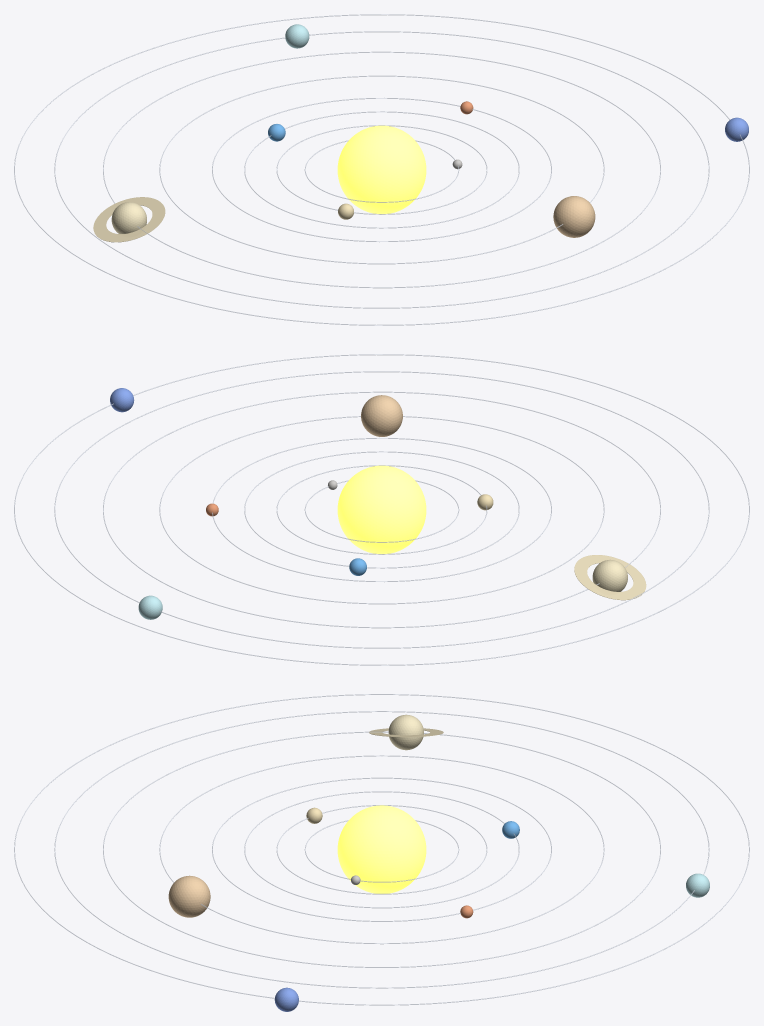
Rendered from solar-system.glb.
3 renders of one model, top to bottom at view 1: azimuth 30°, elevation 25°; view 2: azimuth 150°, elevation 25°; view 3: azimuth 270°, elevation 25°, orthographic.
Parts seen in each view (by area): view 1: Sun, NeptuneOrbit, UranusOrbit, SaturnOrbit, JupiterOrbit, Jupiter, SaturnRing, MarsOrbit, EarthOrbit, Saturn, VenusOrbit; view 2: Sun, NeptuneOrbit, UranusOrbit, SaturnOrbit, JupiterOrbit, Jupiter, SaturnRing, MarsOrbit, EarthOrbit, Saturn, VenusOrbit; view 3: Sun, NeptuneOrbit, UranusOrbit, SaturnOrbit, JupiterOrbit, Jupiter, MarsOrbit, EarthOrbit, Saturn, VenusOrbit.
Boxes of the visible parts, x1=… form: Sun: x1=337, y1=125, x2=426, y2=213; NeptuneOrbit: x1=14, y1=14, x2=749, y2=325; UranusOrbit: x1=54, y1=31, x2=709, y2=308; SaturnOrbit: x1=103, y1=51, x2=660, y2=288; JupiterOrbit: x1=159, y1=75, x2=604, y2=264; Jupiter: x1=553, y1=196, x2=595, y2=237; SaturnRing: x1=93, y1=197, x2=165, y2=242; MarsOrbit: x1=212, y1=97, x2=551, y2=242; EarthOrbit: x1=244, y1=111, x2=519, y2=228; Saturn: x1=111, y1=202, x2=146, y2=233; VenusOrbit: x1=276, y1=125, x2=487, y2=214; Sun: x1=337, y1=465, x2=426, y2=553; NeptuneOrbit: x1=14, y1=354, x2=749, y2=665; UranusOrbit: x1=54, y1=371, x2=709, y2=648; SaturnOrbit: x1=103, y1=391, x2=660, y2=628; JupiterOrbit: x1=159, y1=416, x2=604, y2=604; Jupiter: x1=361, y1=395, x2=402, y2=436; SaturnRing: x1=574, y1=555, x2=646, y2=600; MarsOrbit: x1=212, y1=437, x2=551, y2=582; EarthOrbit: x1=244, y1=451, x2=519, y2=568; Saturn: x1=592, y1=559, x2=627, y2=591; VenusOrbit: x1=276, y1=465, x2=487, y2=554; Sun: x1=337, y1=805, x2=426, y2=893; NeptuneOrbit: x1=14, y1=694, x2=749, y2=1005; UranusOrbit: x1=54, y1=711, x2=709, y2=988; SaturnOrbit: x1=103, y1=731, x2=660, y2=967; JupiterOrbit: x1=159, y1=755, x2=604, y2=944; Jupiter: x1=168, y1=875, x2=210, y2=917; MarsOrbit: x1=212, y1=777, x2=551, y2=921; EarthOrbit: x1=244, y1=791, x2=519, y2=908; Saturn: x1=388, y1=714, x2=423, y2=750; VenusOrbit: x1=276, y1=805, x2=487, y2=894.
Bounding box in the file's own units: 9.11 × 1.1 × 9.11.
